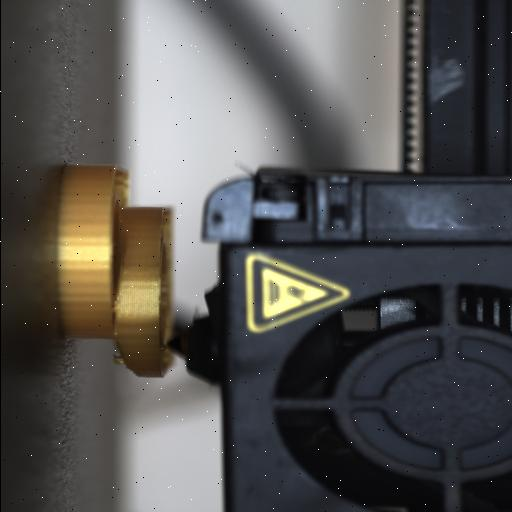layer_shift: (106, 160, 130, 363)
